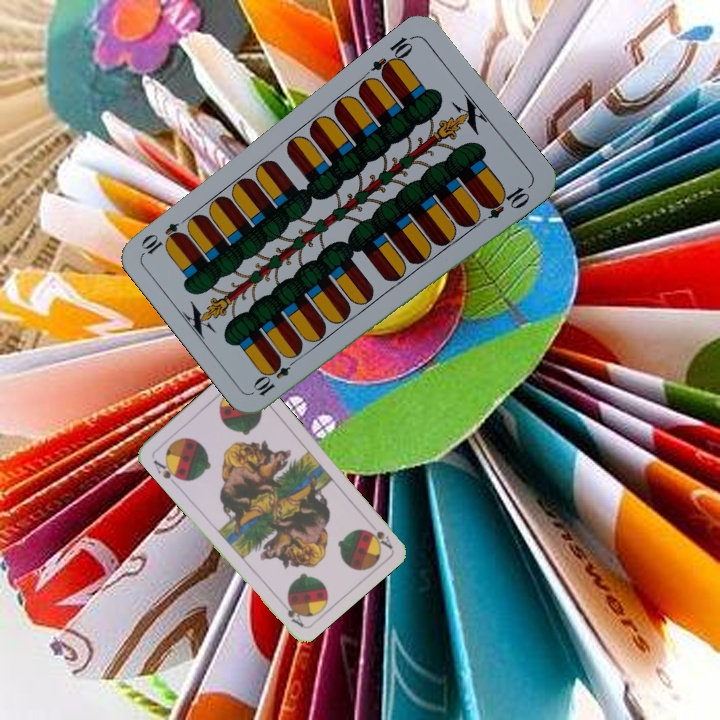E10: (367, 31, 417, 81), (250, 352, 301, 399)
SA: (149, 456, 184, 488), (363, 517, 395, 551)
